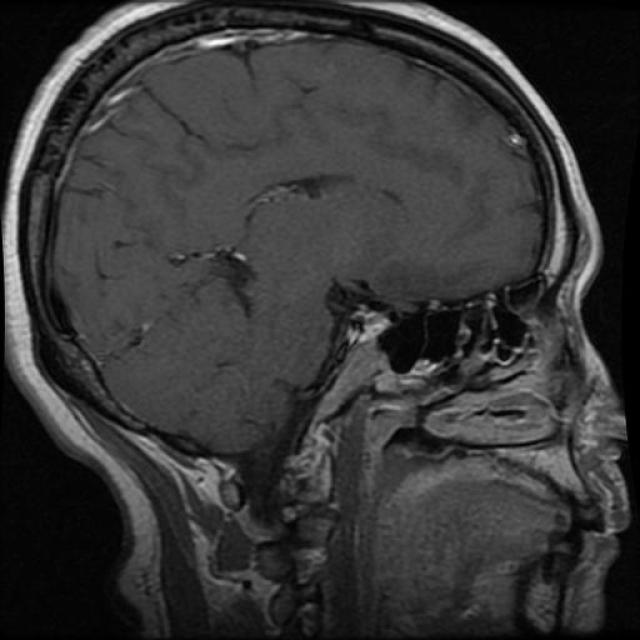pituitary: (318, 293, 394, 370)
